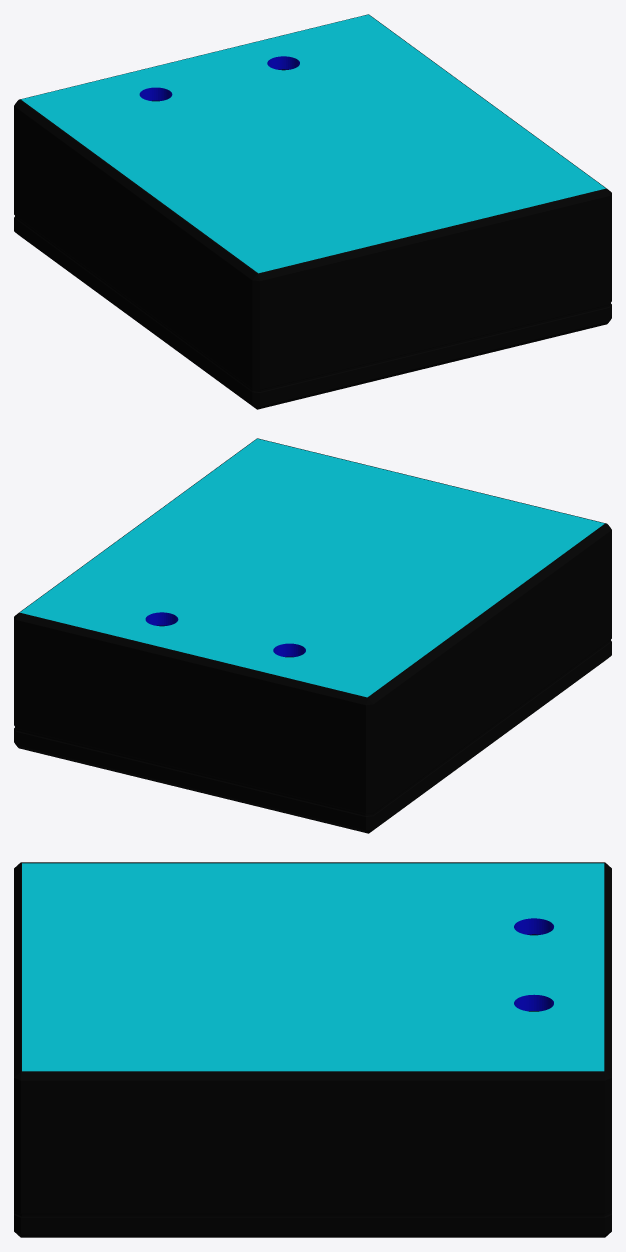
Rendered from redux_base.glb.
3 renders of one model, top to bottom at view 1: azimuth 30°, elevation 25°; view 2: azimuth 150°, elevation 25°; view 3: azimuth 270°, elevation 25°, orthographic. The views are drawn at different scales.
Parts seen in each view (by area): view 1: ReduxBase; view 2: ReduxBase; view 3: ReduxBase.
Part boxes in pixels (left/top/right/bottom): ReduxBase: left=14, top=14, right=611, bottom=409; ReduxBase: left=14, top=438, right=611, bottom=833; ReduxBase: left=14, top=862, right=611, bottom=1237.
Bounding box in the file's own units: 0.0533 × 0.0192 × 0.0626.
